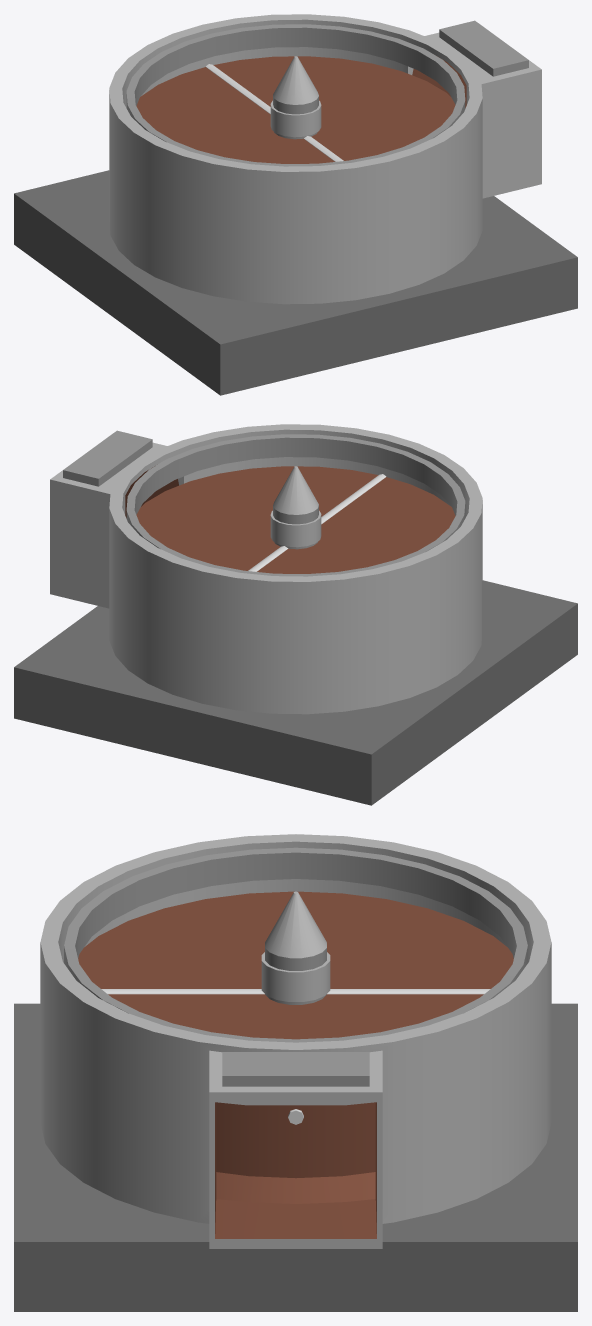
Rendered from mech_2.fbx.
The picture shows the model from 3 angles, top to bottom: view 1: azimuth 30°, elevation 25°; view 2: azimuth 150°, elevation 25°; view 3: azimuth 270°, elevation 25°; orthographic projection. The views are drawn at different scales.
Visible parts, largest first — view 1: mech_2; view 2: mech_2; view 3: mech_2.
Part boxes in pixels (x1,y1,x2,y2): mech_2: (14, 14, 577, 395); mech_2: (14, 424, 577, 805); mech_2: (14, 834, 577, 1311).
Bounding box in the file's own units: 137 × 73.41 × 125.
